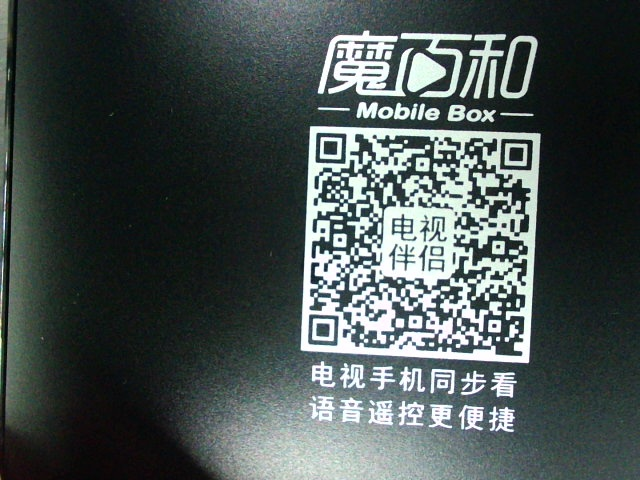AZ_MobileBox: (300, 27, 546, 435)
